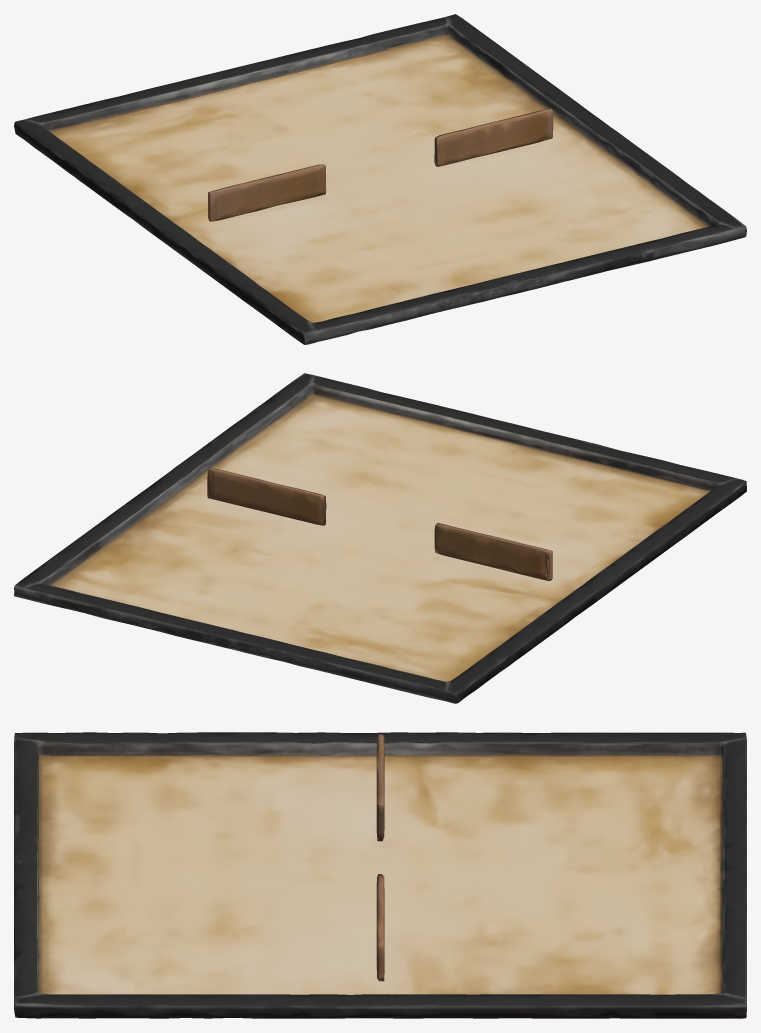
Rendered from extra_ceiling_lamp4.glb.
3 views of the same model, one above another, from view 1: azimuth 30°, elevation 25°; view 2: azimuth 150°, elevation 25°; view 3: azimuth 270°, elevation 25° (orthographic). The views are drawn at different scales.
Parts seen in each view (by area): view 1: world; view 2: world; view 3: world.
Part boxes in pixels (x1,y1,x2,y2): world: (14,14,746,344); world: (14,373,746,703); world: (14,732,746,1018).
Bounding box in the file's own units: 0.8816 × 0.0701 × 1.
Materials: 1 (1 with a texture image).
